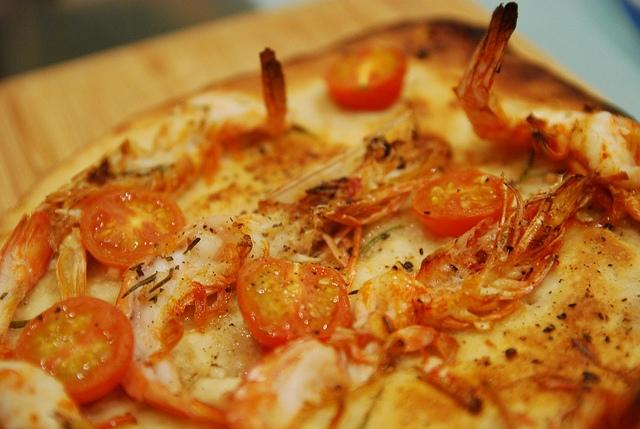tomato: (14, 297, 134, 406), (236, 256, 352, 349), (79, 186, 186, 270), (414, 171, 514, 237), (323, 45, 408, 112)
